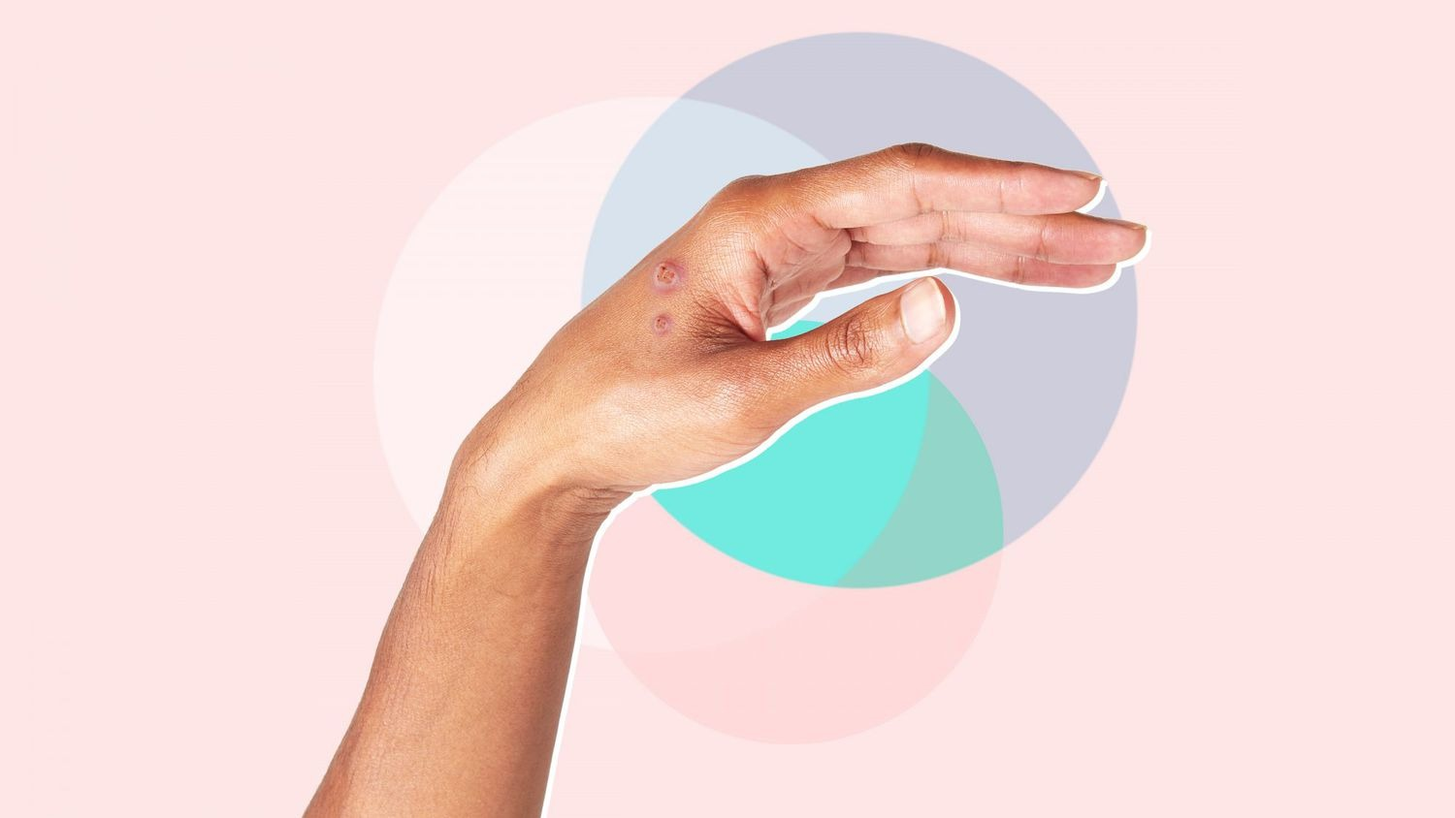Warts: (645, 248, 707, 358)
